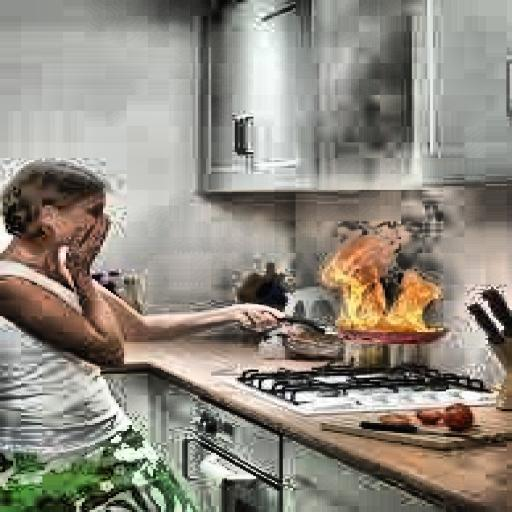fire: (322, 227, 457, 344)
